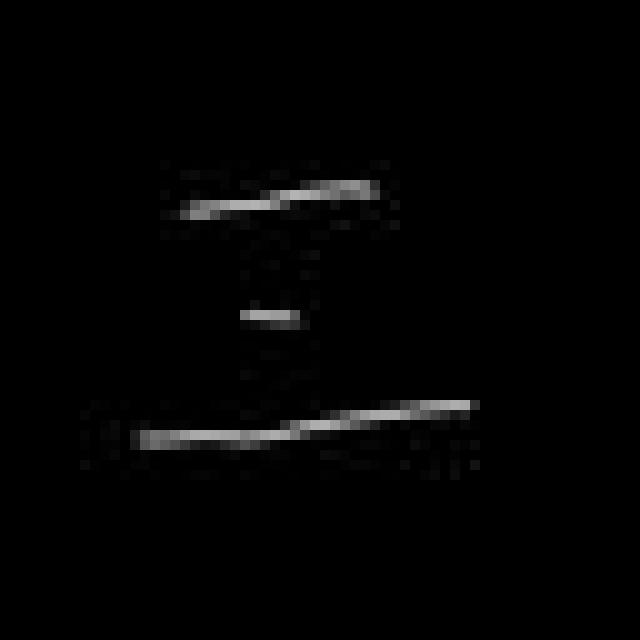3 -three-: (118, 168, 482, 464)
